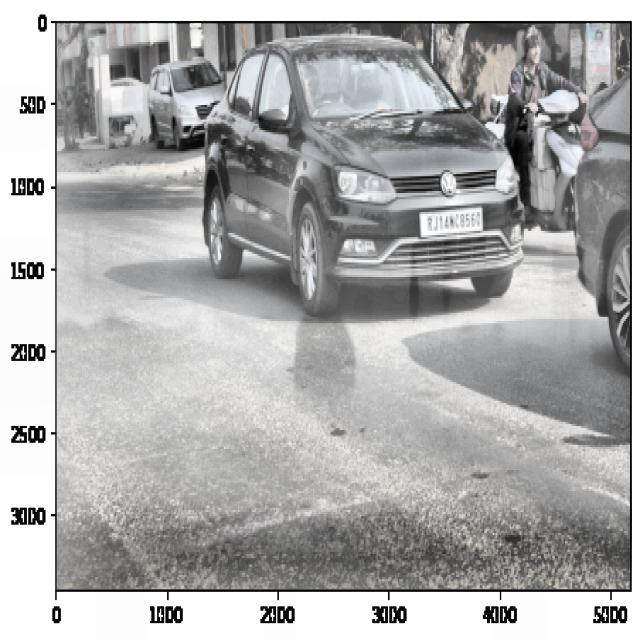license_plate: (420, 208, 484, 237)
